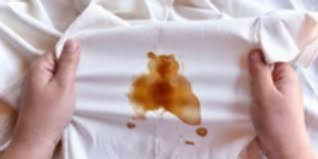coffee: (129, 53, 208, 138)
